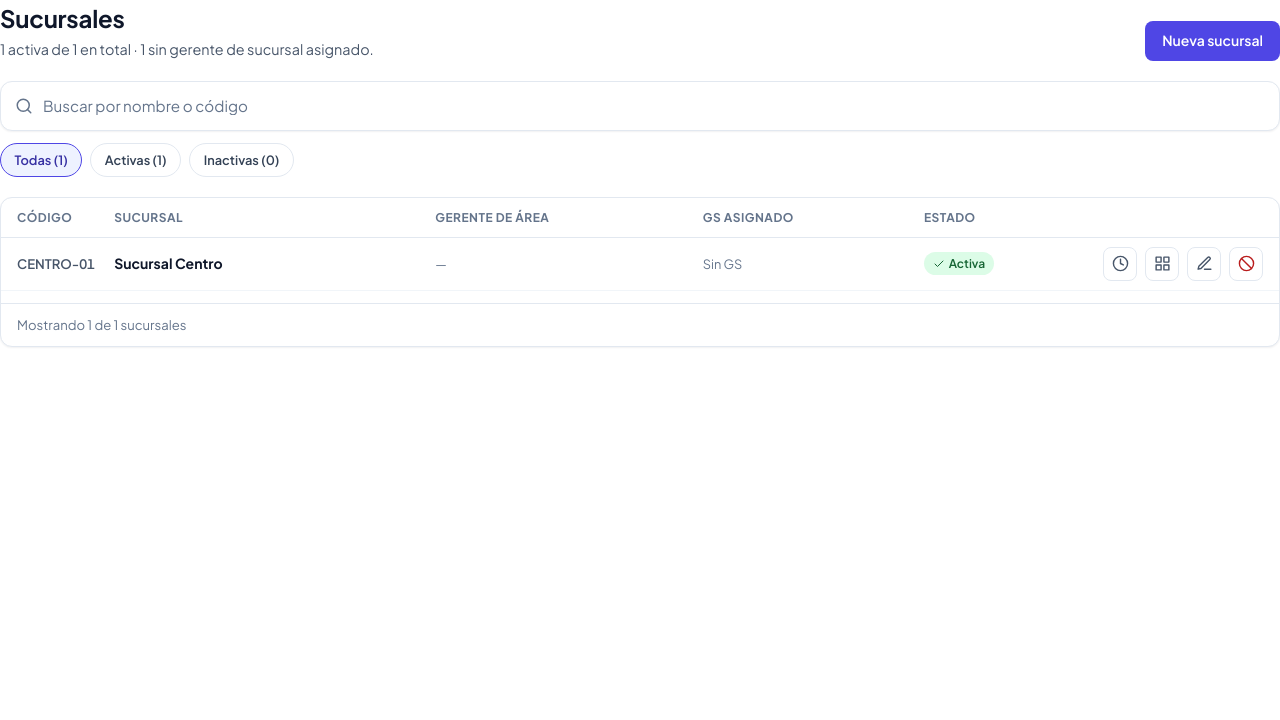
Test case: SucursalesPage: número de guardias › conserva el modal, los datos y la lista ante PATCH denegado
Check: the text "Sucursal Centro" is shown, box [114, 254, 223, 272]
Step 1. Click the button titled "Editar" → [1204, 264], box [1187, 247, 1221, 281]
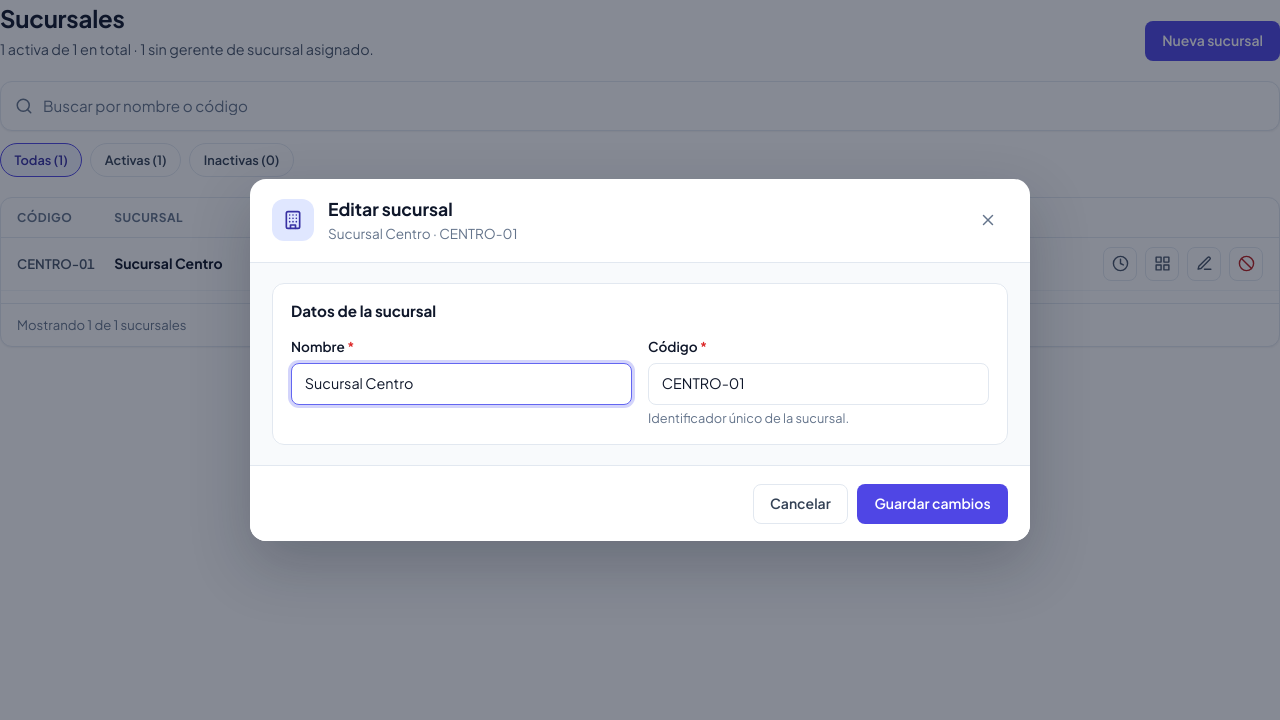
Step 2. Replace the text in the field showing "Sucursal Centro" with "Sucursal Actualizada" → [462, 384], box [291, 363, 632, 405]
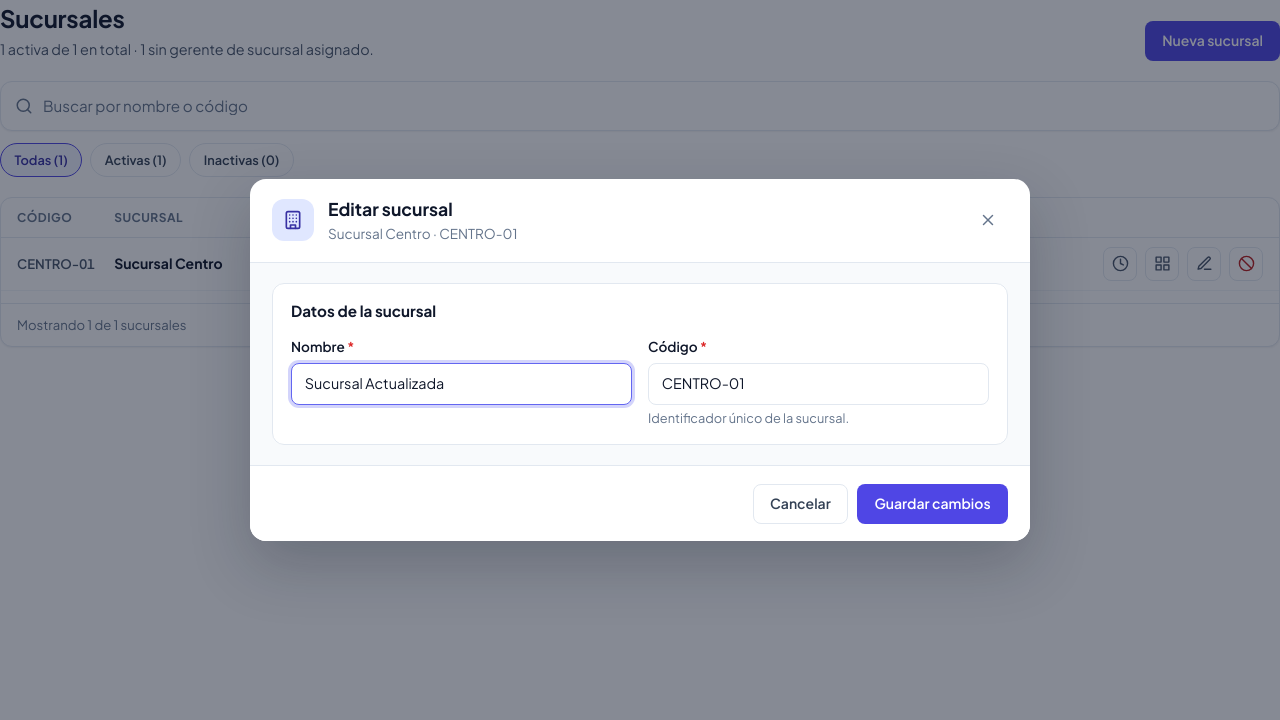
Step 3. Click the button "Guardar cambios" → [932, 504], box [857, 484, 1008, 524]
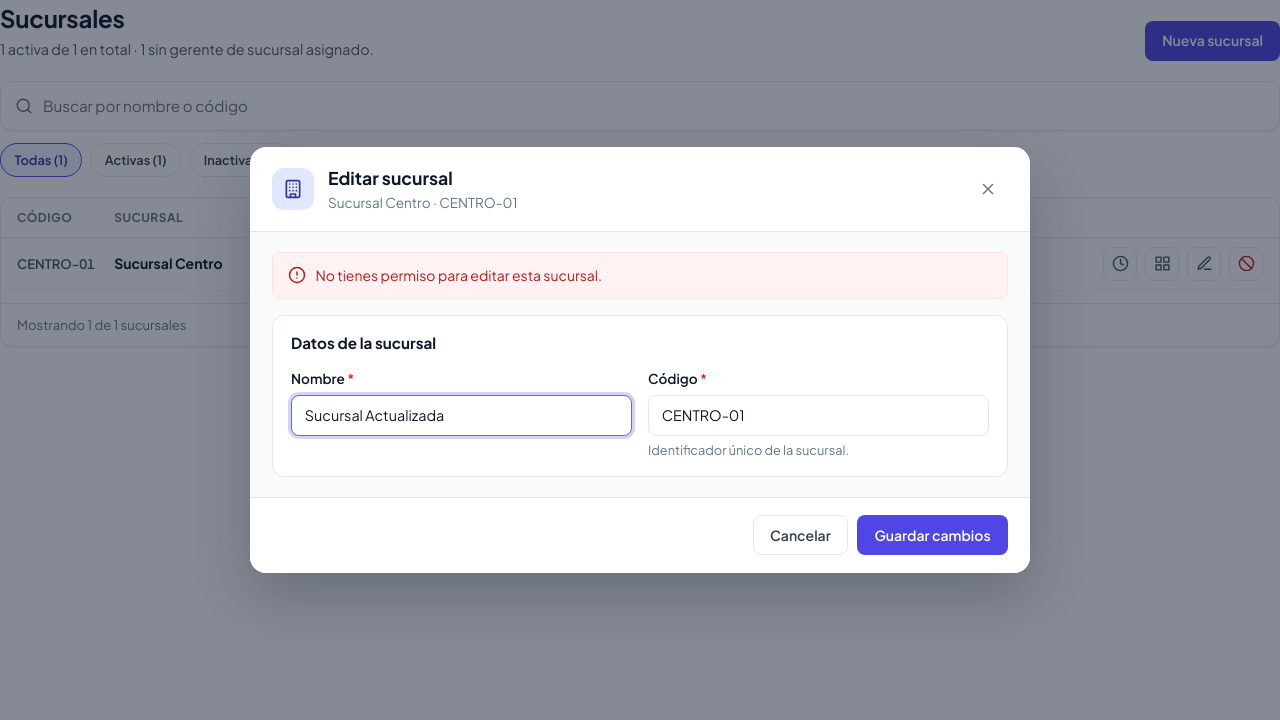
Check: the cell "Sucursal Centro" is shown, box [105, 238, 426, 290]
Check: the text "No tienes permiso para editar esta sucursal." is shown, box [315, 265, 602, 286]
